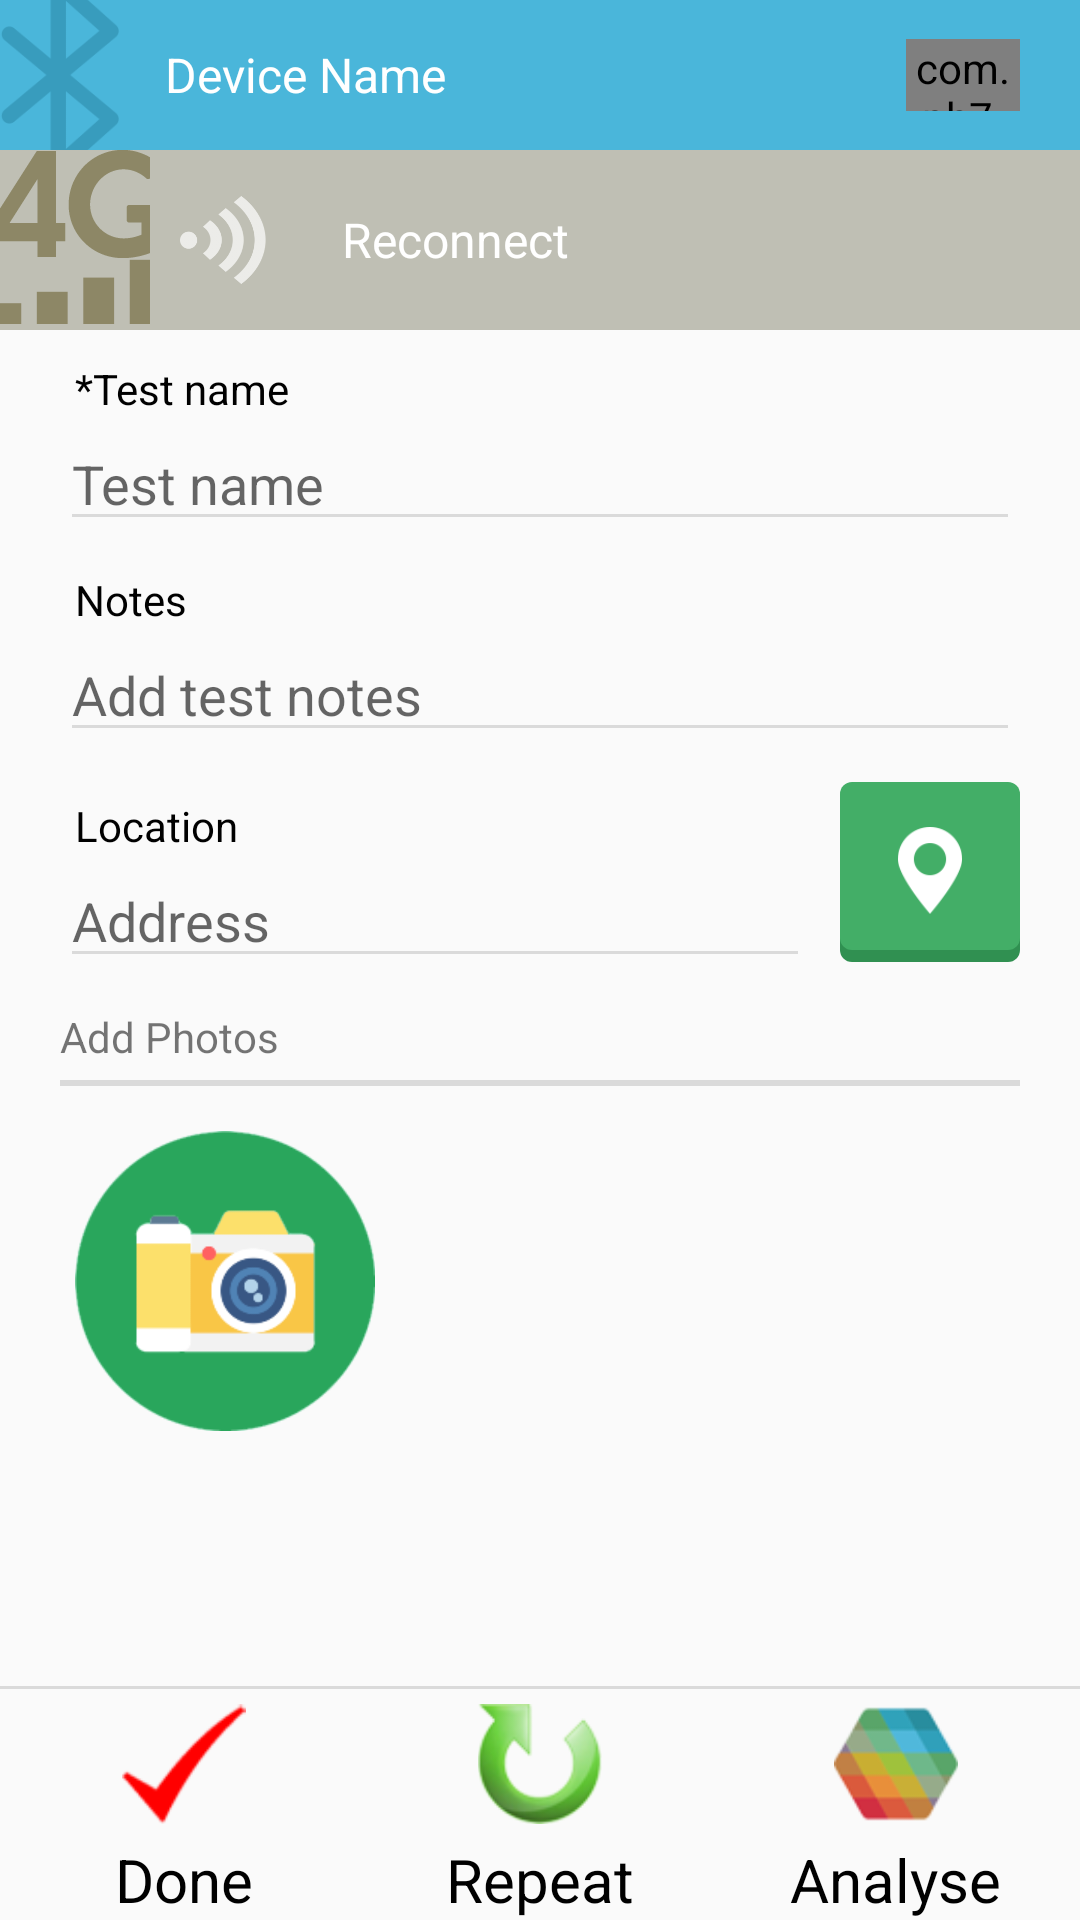

Icons on this 1080x1920 Android screen, each with its box as {"left": x1, "top": y1, "right": x2, "bottom": y2}:
network operator: {"left": 0, "top": 151, "right": 150, "bottom": 324}
wifi signal: {"left": 180, "top": 196, "right": 266, "bottom": 284}
